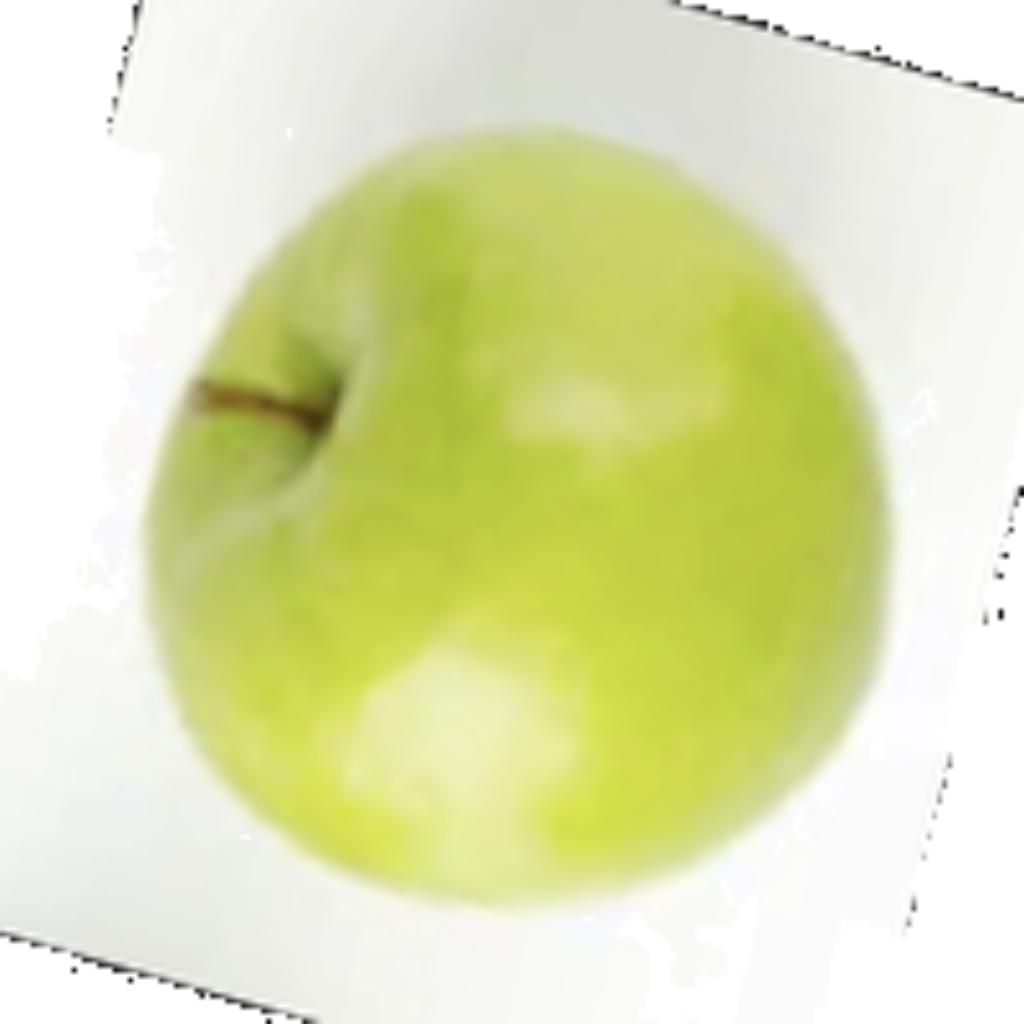apple: (108, 113, 906, 952)
